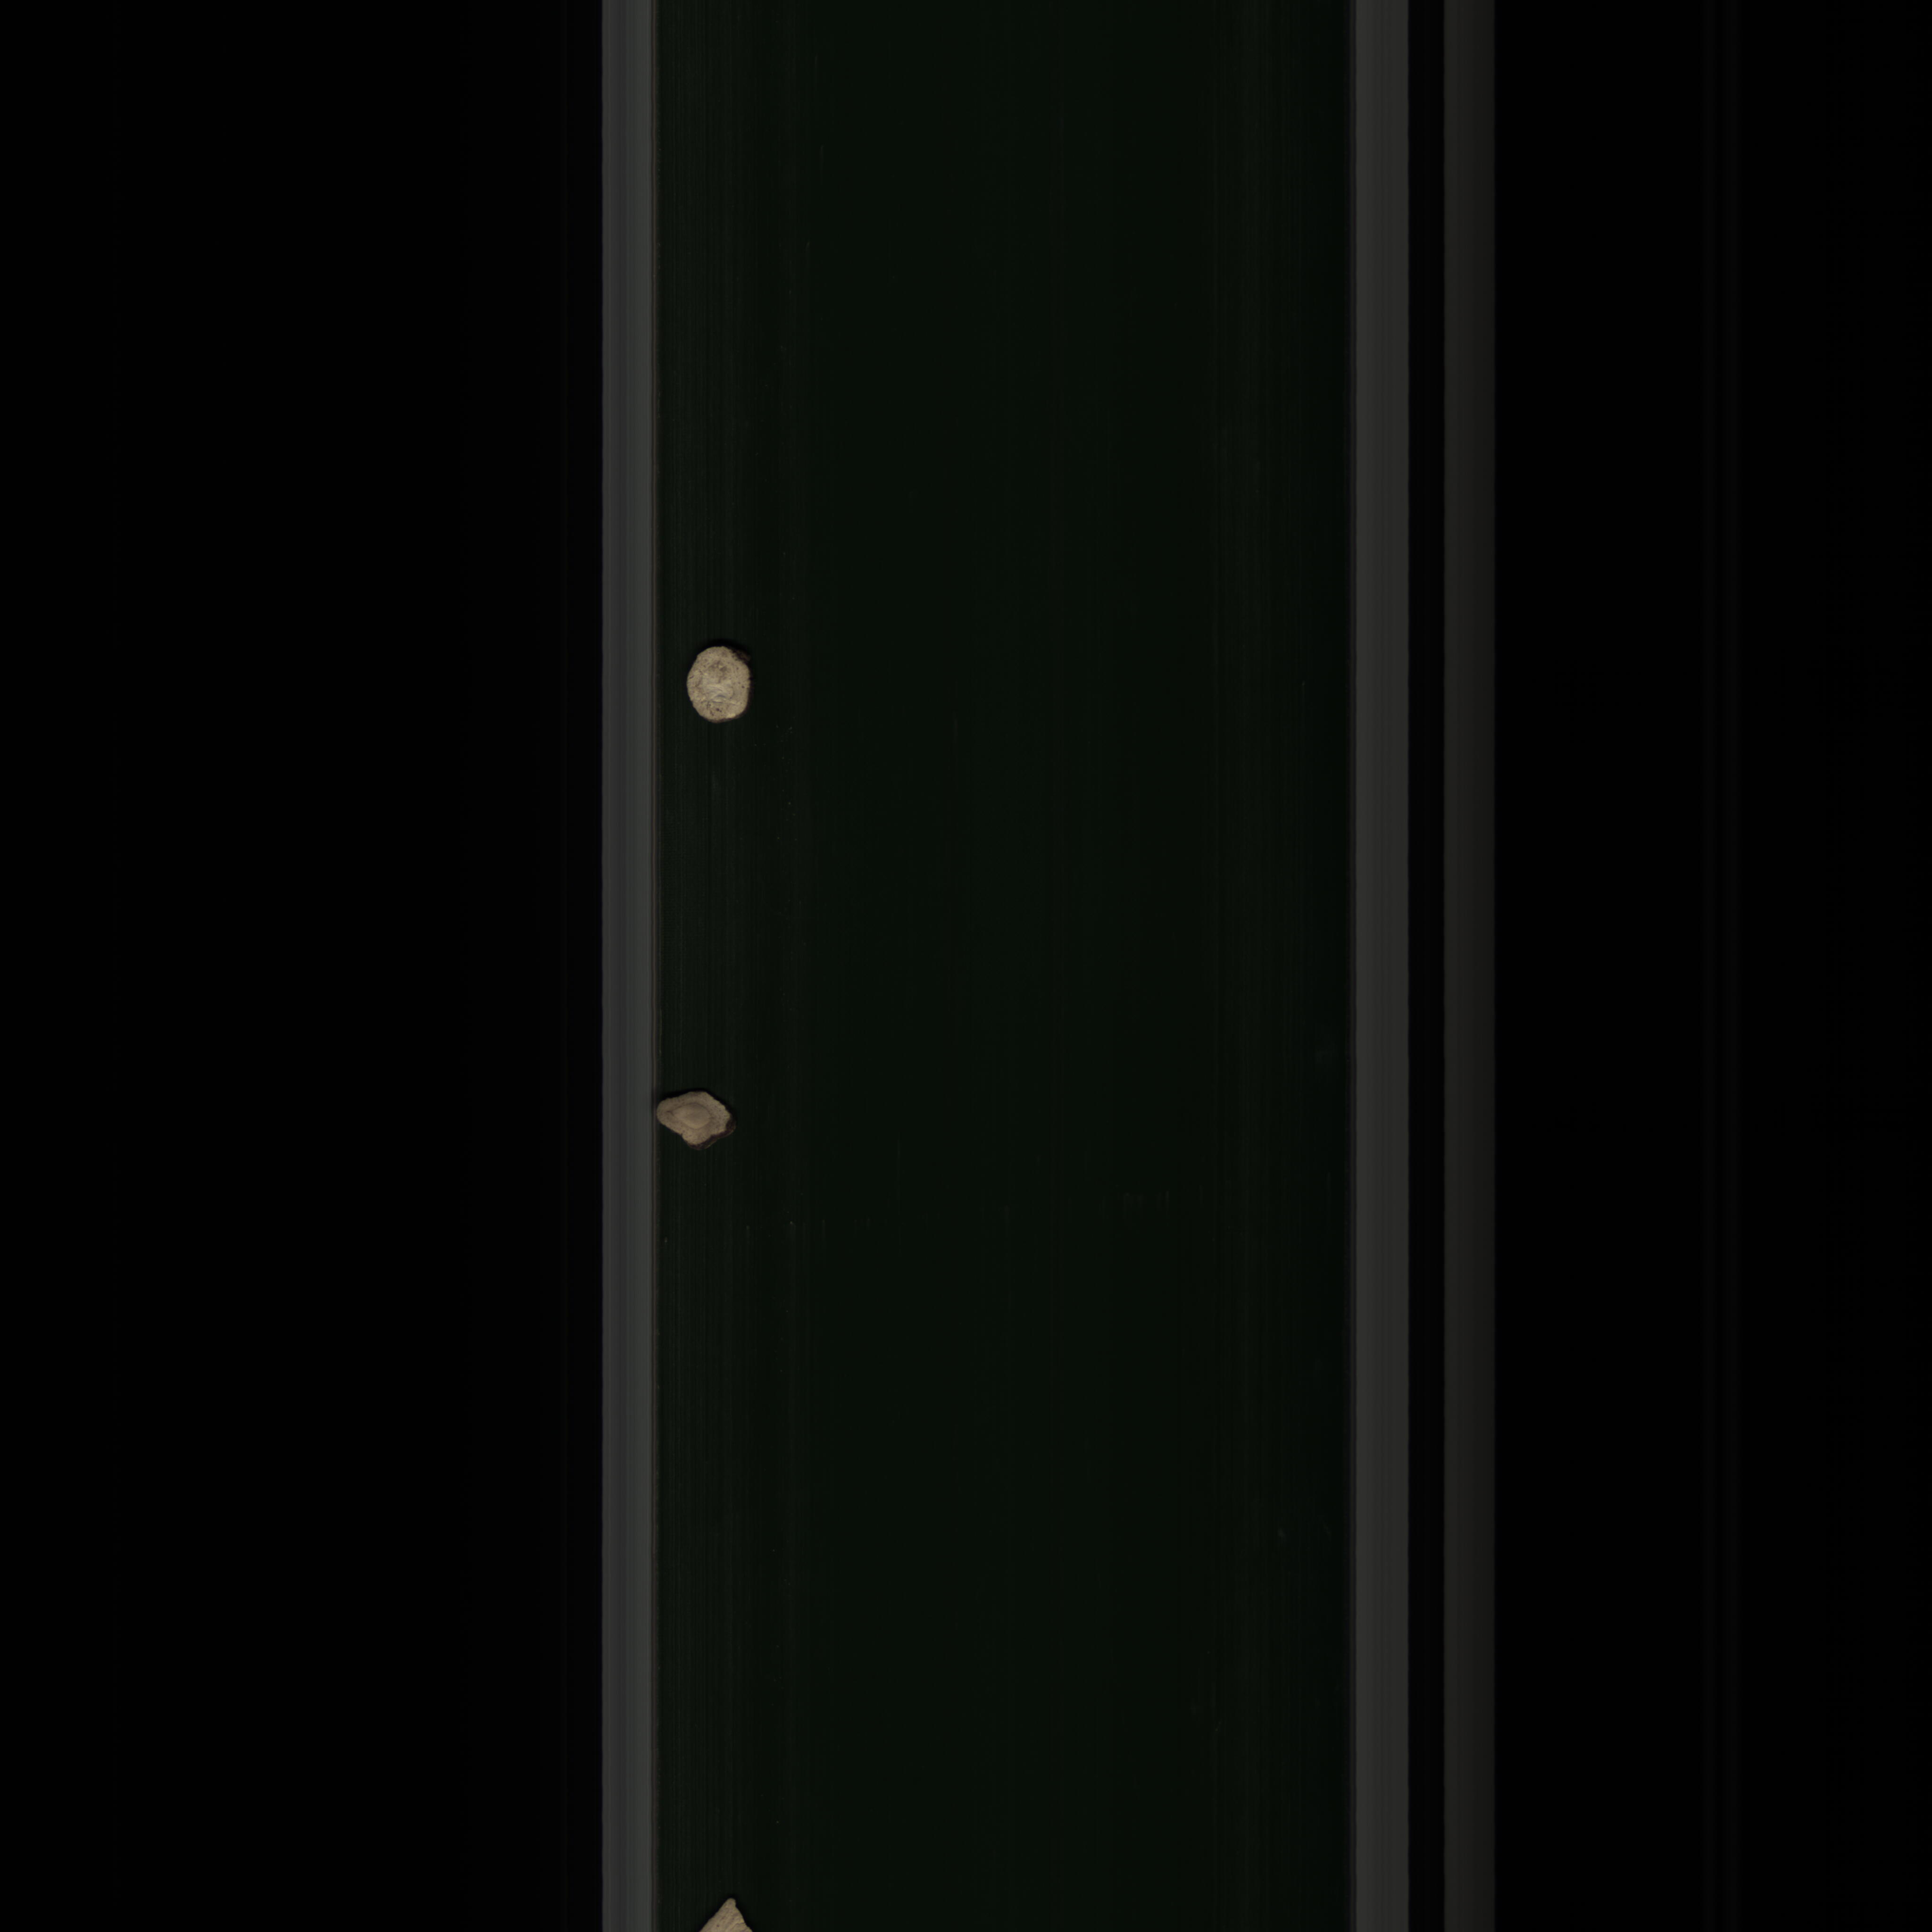moldy: (651, 1079, 750, 1162)
